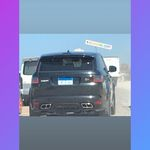carpl: (58, 77, 74, 86)
